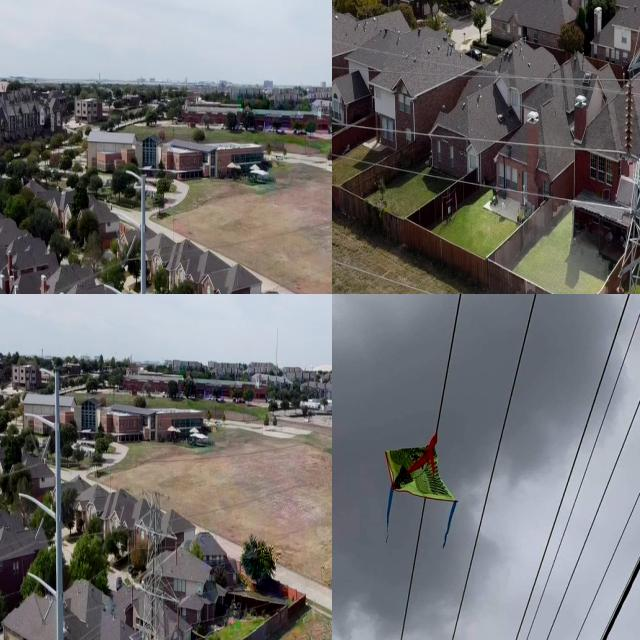杆塔: (121, 487, 185, 640)
植被遮挡: (377, 399, 467, 573)
正常电缆: (332, 142, 619, 217), (332, 112, 617, 160), (332, 250, 467, 294)
正常绝缘子: (622, 72, 636, 161), (613, 276, 627, 294), (133, 524, 139, 554), (174, 538, 179, 569), (130, 579, 135, 610)
